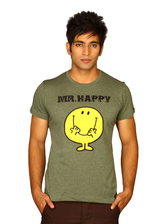clothoes: (25, 67, 137, 205)
